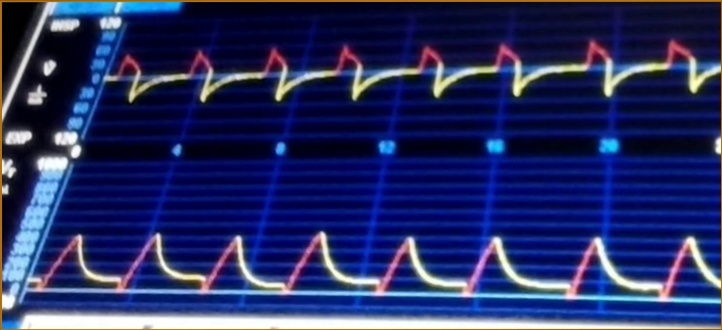Flow: (116, 27, 722, 133)
Leakage Volume: (35, 222, 722, 311)
